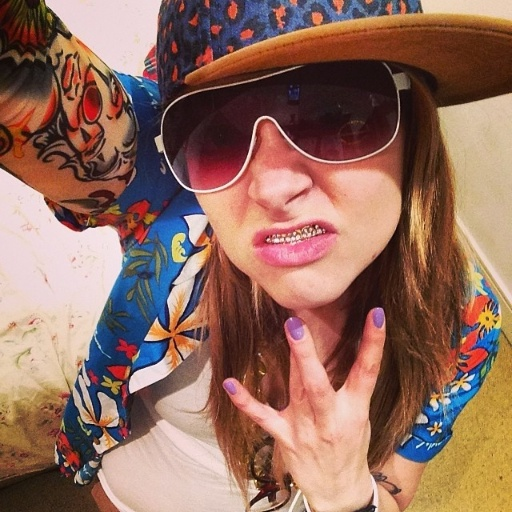hand: (233, 316, 398, 503)
